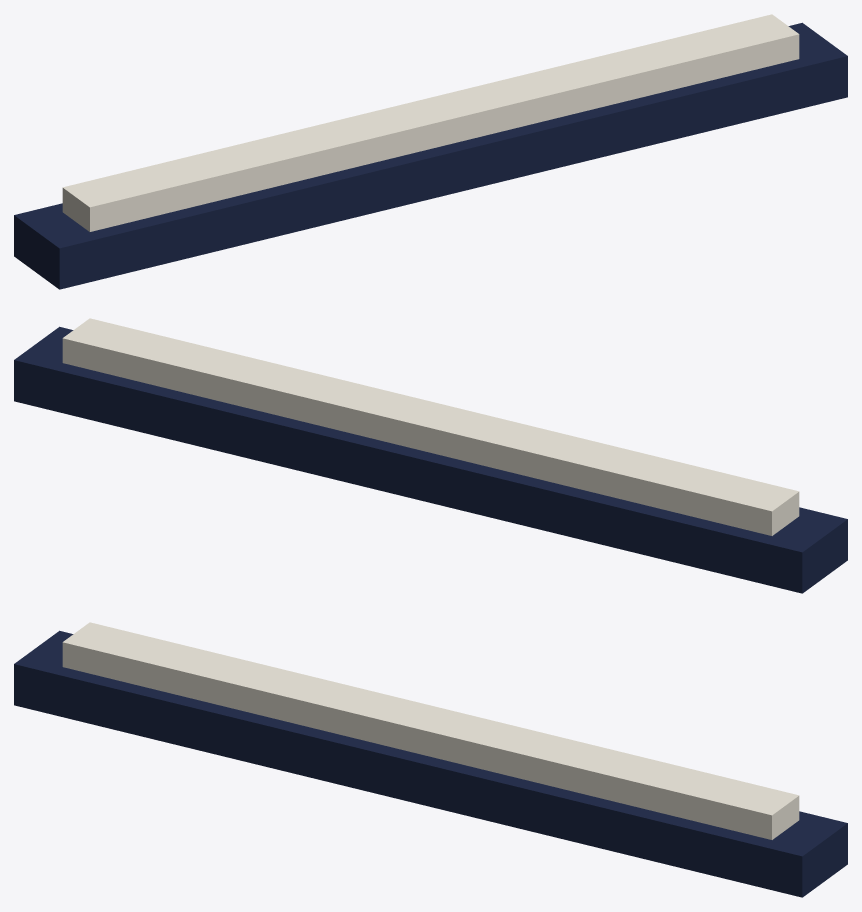
File: light_strip.fbx
The picture shows the model from 3 angles, top to bottom: view 1: azimuth 30°, elevation 25°; view 2: azimuth 150°, elevation 25°; view 3: azimuth 330°, elevation 25°; orthographic projection.
Parts seen in each view (by area): view 1: light_strip; view 2: light_strip; view 3: light_strip.
Boxes of the visible parts, x1,y1,x2,y2 form: light_strip: [14, 14, 847, 289]; light_strip: [14, 318, 847, 593]; light_strip: [14, 622, 847, 897].
Bounding box in the file's own units: 2 × 0.16 × 0.2.
